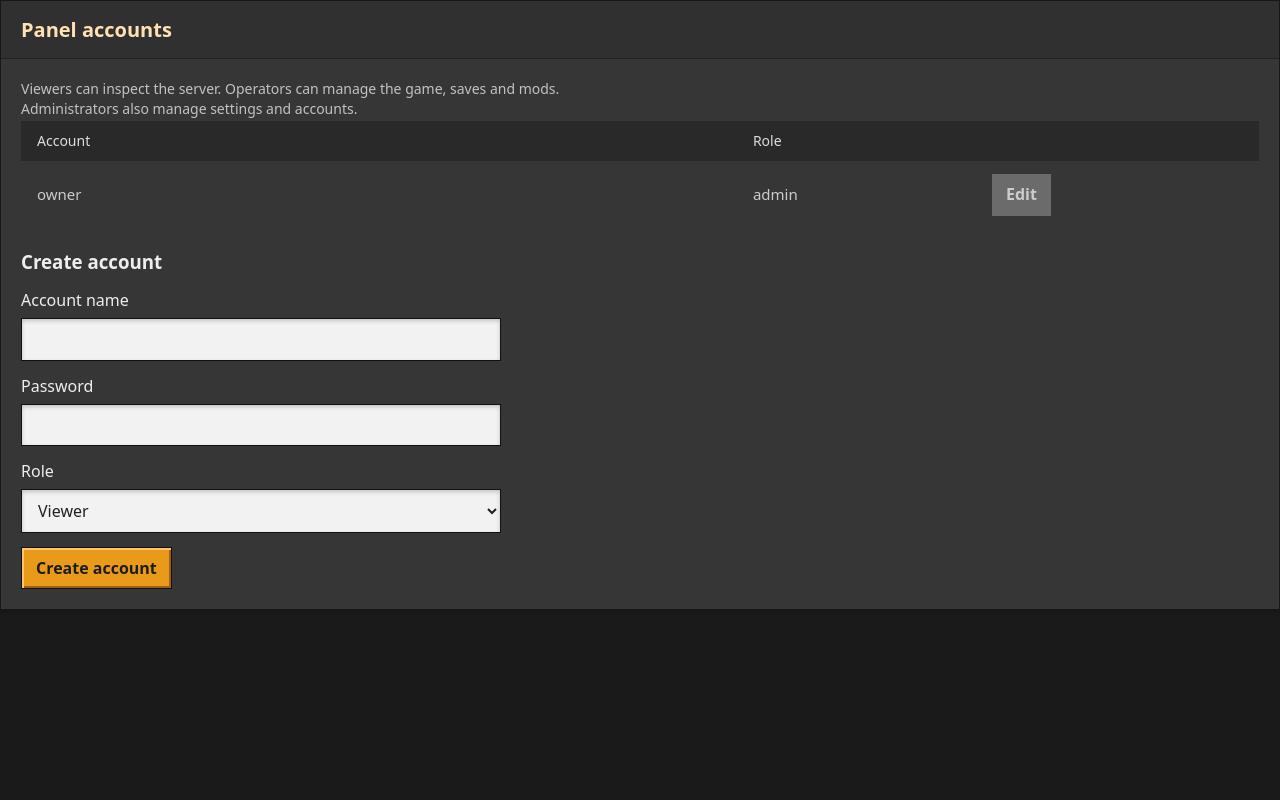
Test: creates an account using the current revision and explicit role
The image size is (1280, 800).
Type "reader" into the field labelled "Account name" at (261, 339), box [21,318,501,361]
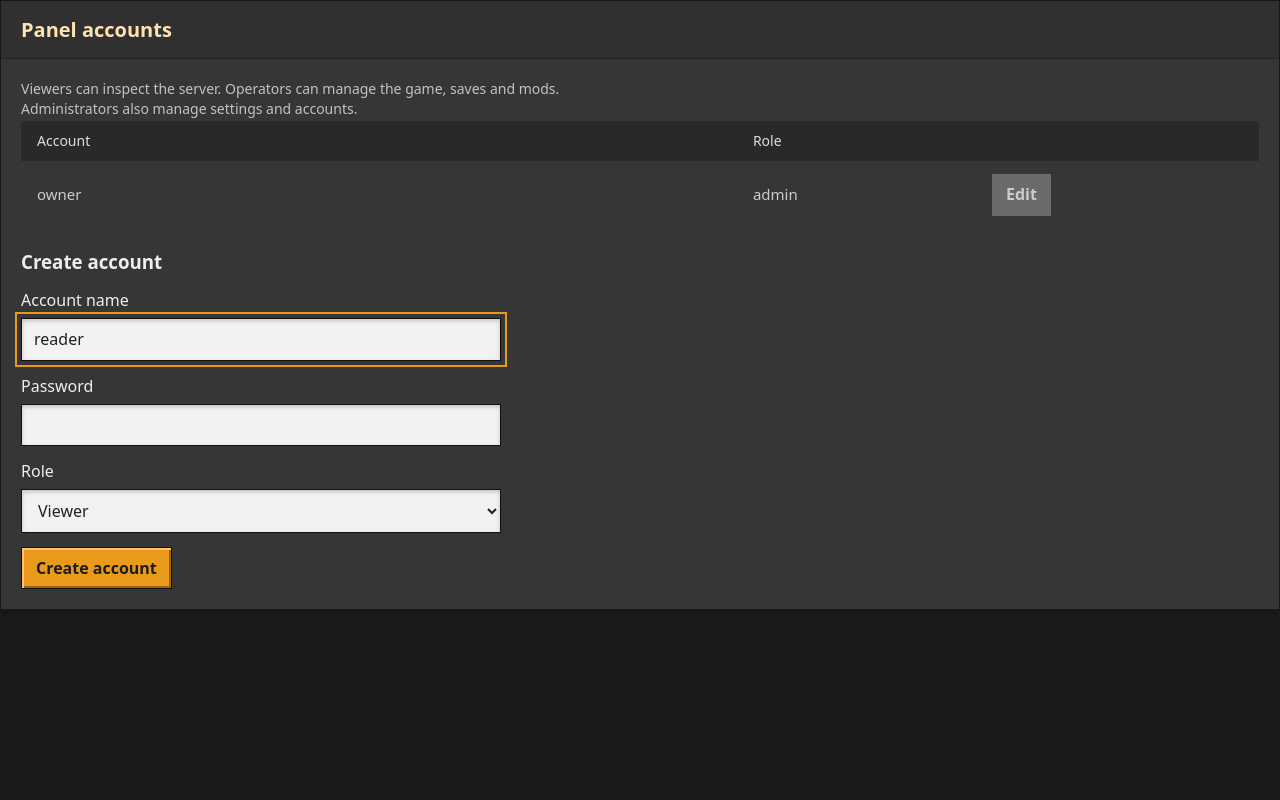
Type "test-only-password" into the password field labelled "Password" at (261, 425), box [21,404,501,446]
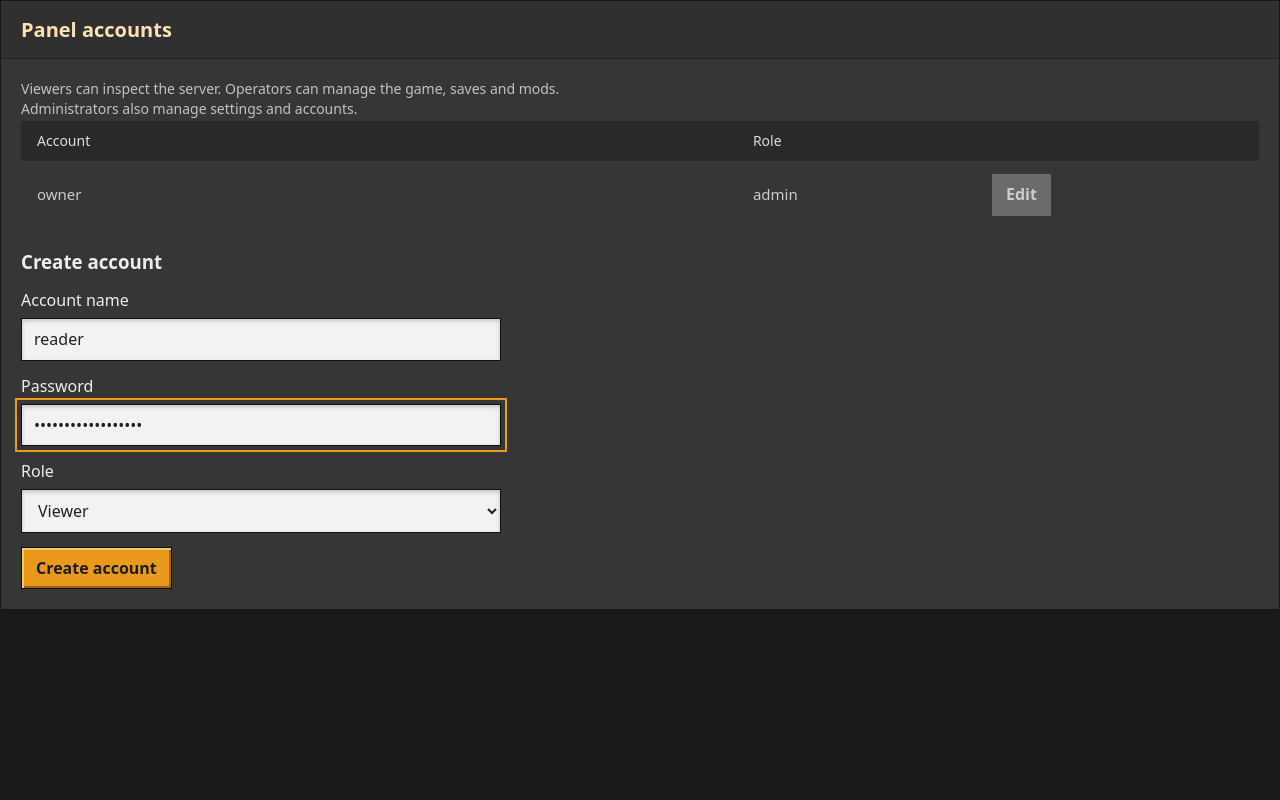
Click the button "Create account" at (96, 568), box [21,547,172,589]
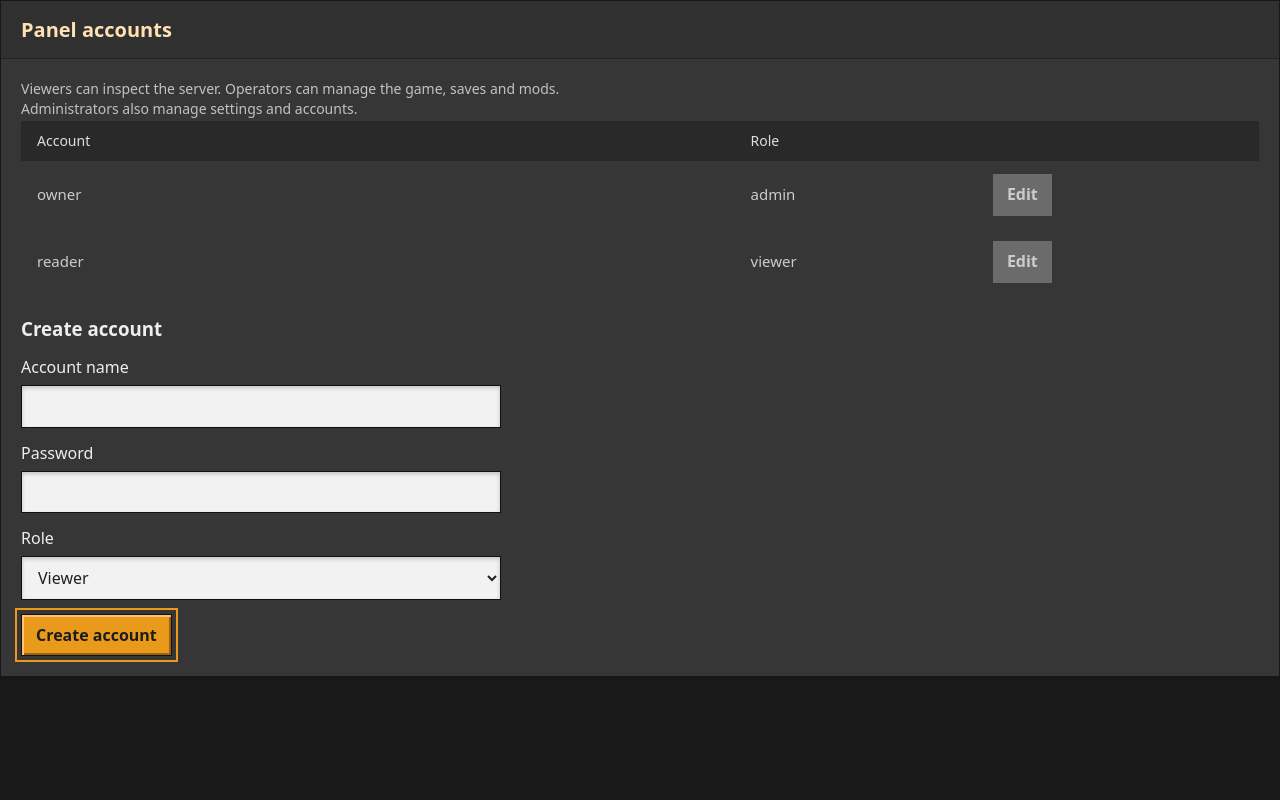
Expected: the text "reader" is shown, [21,228,735,295]
Expected: the password field labelled "Password" is empty, [21,471,501,513]
